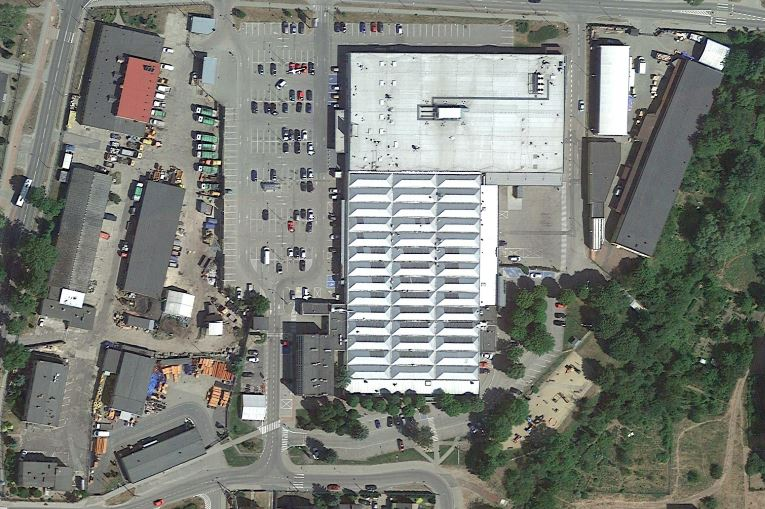block of flats: (292, 330, 337, 399), (15, 459, 78, 493)
garage: (33, 165, 115, 335), (113, 173, 188, 301), (117, 420, 209, 487), (94, 338, 160, 420), (21, 356, 69, 429)
shopping_center: (333, 48, 573, 398), (72, 20, 165, 139)
